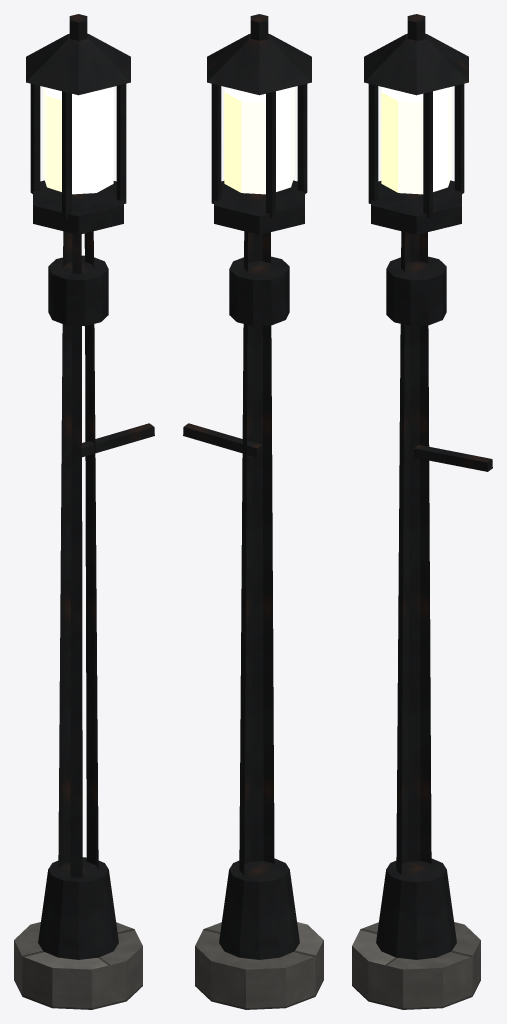
The model's file is A_lamp.glb.
3 views of the same model, side by side, from view 1: azimuth 30°, elevation 25°; view 2: azimuth 150°, elevation 25°; view 3: azimuth 330°, elevation 25° (orthographic).
Visible parts, largest first — view 1: A_lamp; view 2: A_lamp; view 3: A_lamp.
Part boxes in pixels (bbox=[...]): A_lamp: bbox=[14, 14, 154, 1009]; A_lamp: bbox=[183, 14, 323, 1009]; A_lamp: bbox=[352, 14, 492, 1009].
Bounding box in the file's own units: 0.7412 × 5.26 × 0.6087.
Materials: 3 (2 with a texture image).
